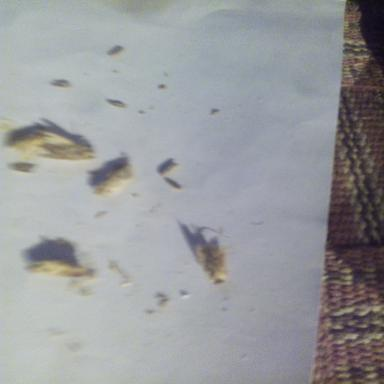abw: (170, 212, 239, 290), (14, 232, 102, 284), (6, 121, 103, 165), (82, 150, 145, 205)
